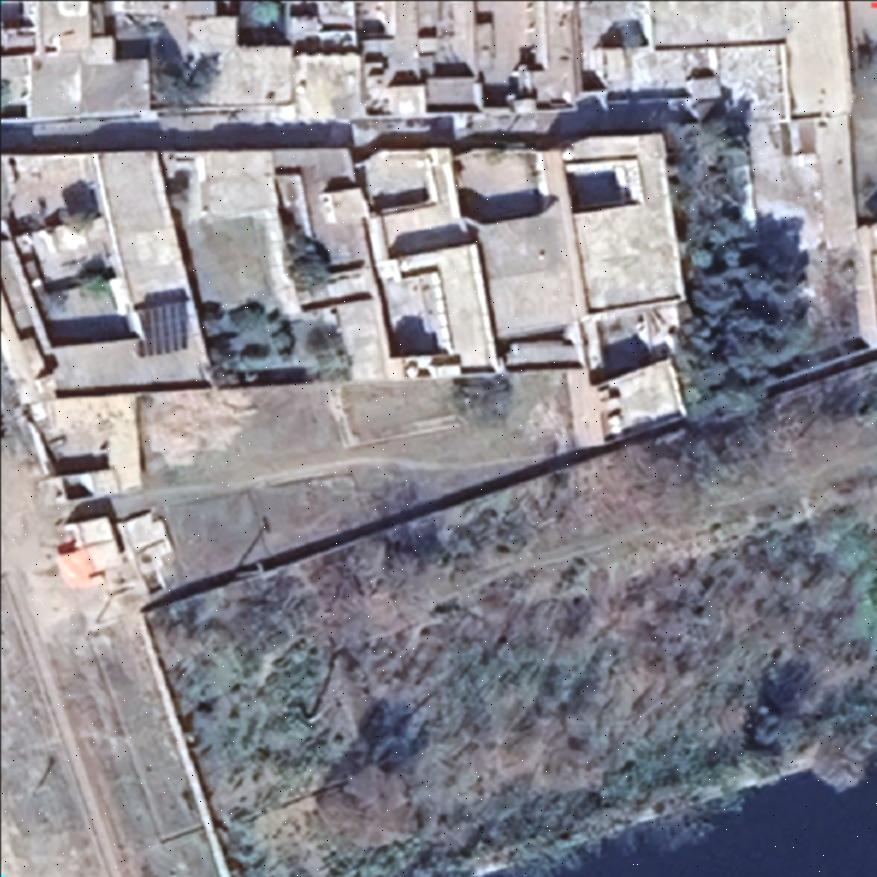Solarpanel: (132, 294, 192, 359)
